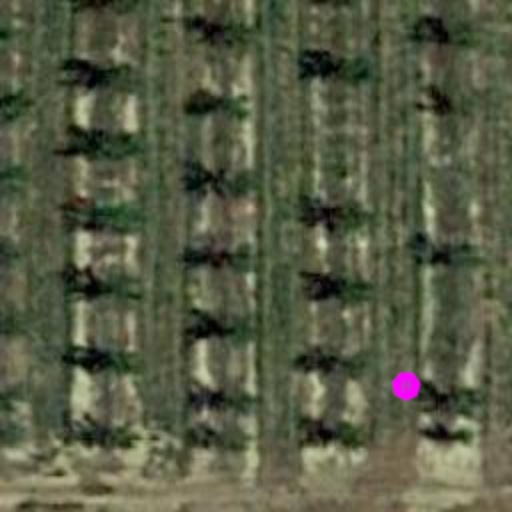heptagon: (388, 368, 424, 404)
